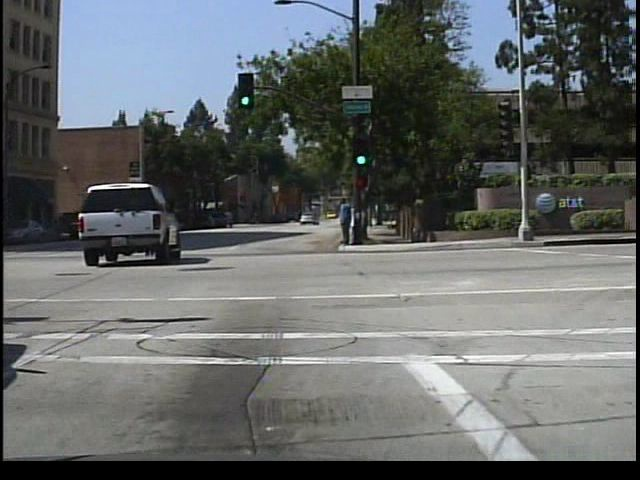person: (332, 191, 353, 247), (341, 195, 359, 243)
